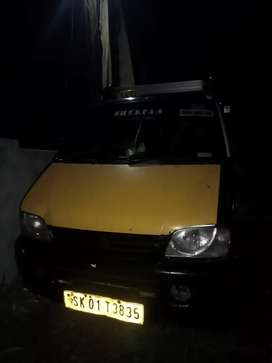SK01T3835: (63, 290, 144, 325)
